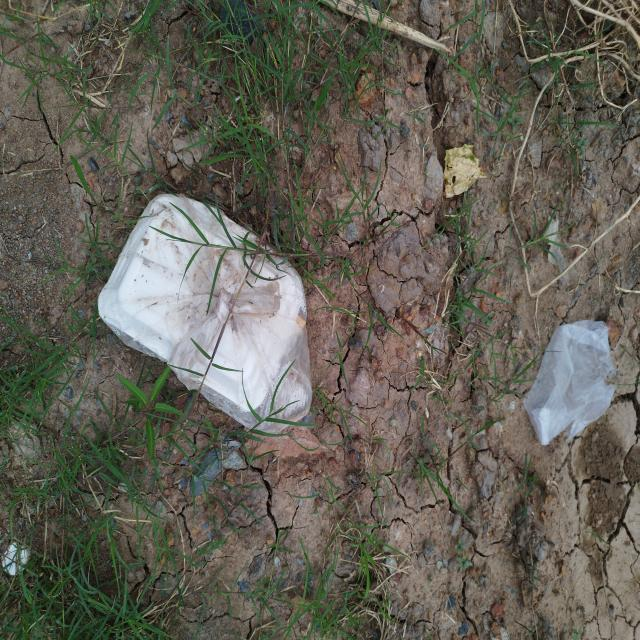bag: (524, 319, 616, 446)
foam box: (96, 193, 302, 412)
